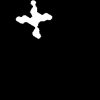single_crochet: (16, 1, 51, 38)
